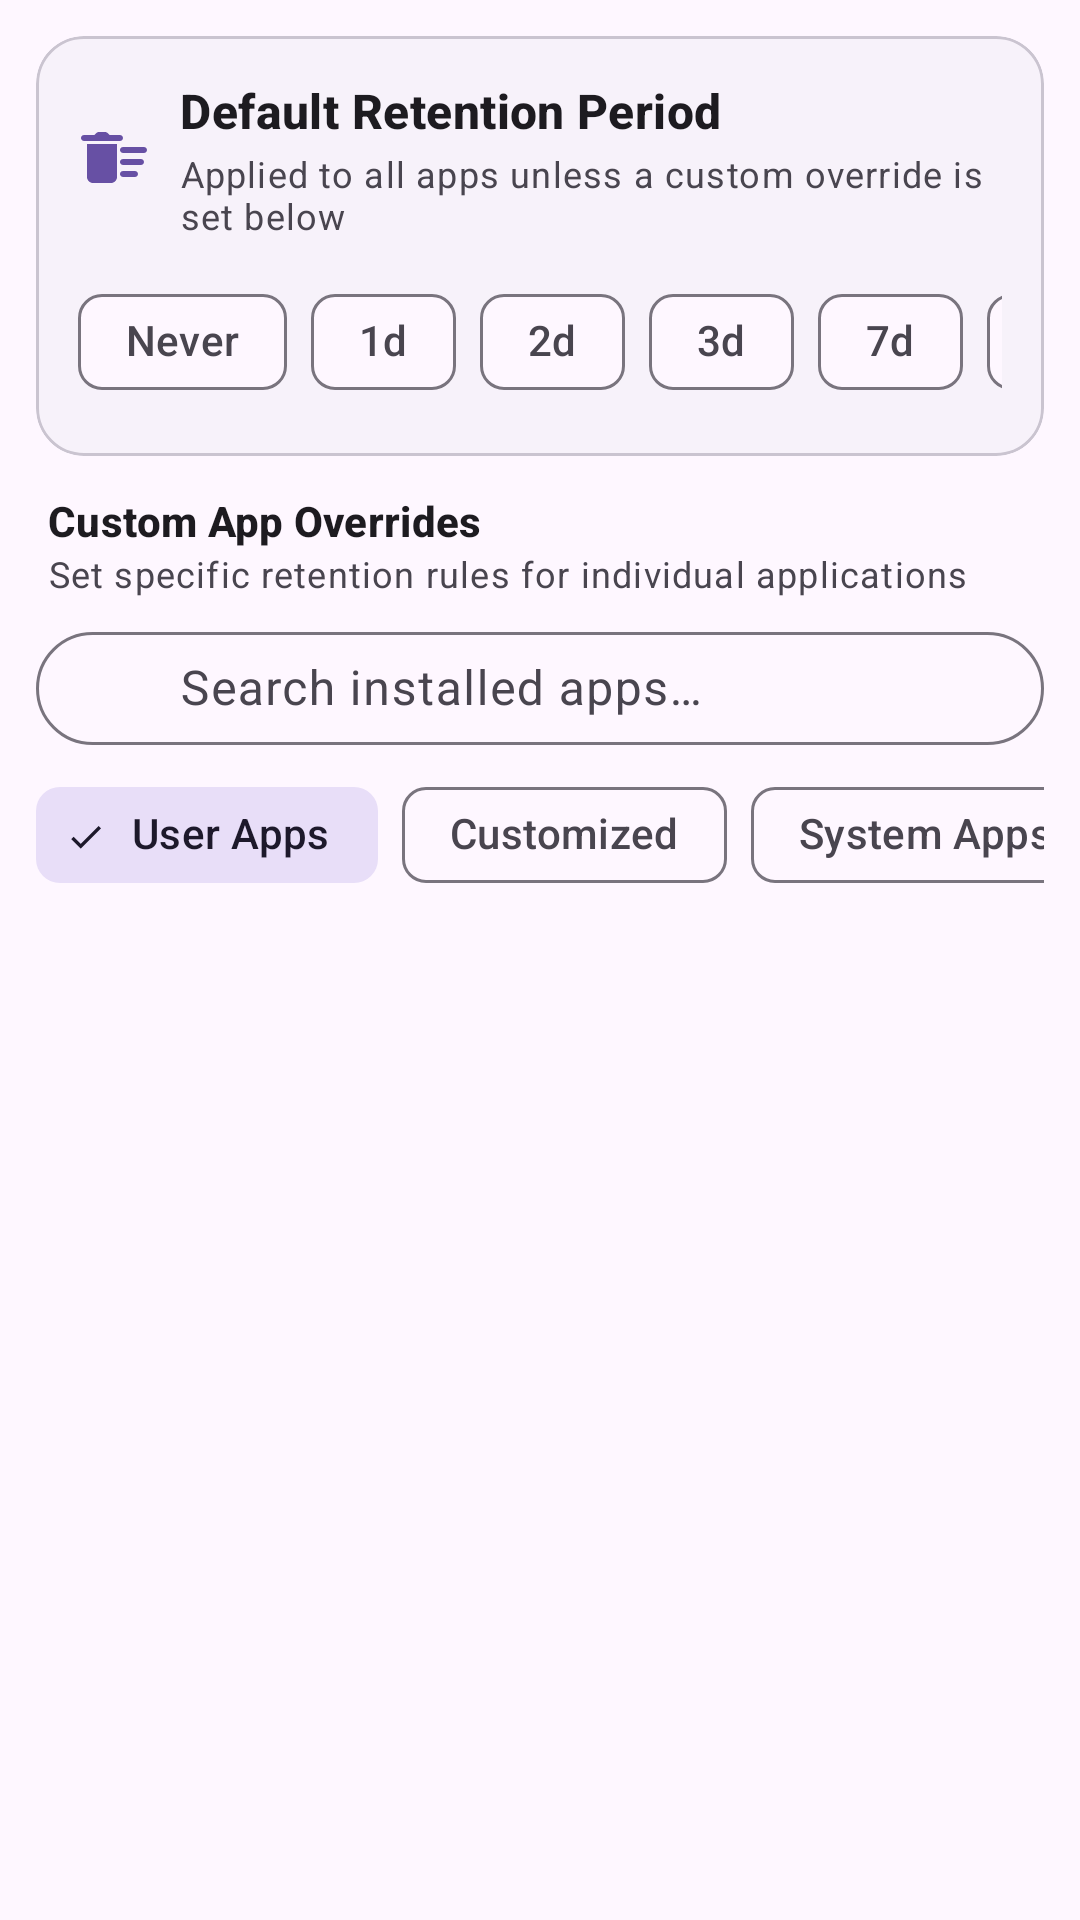

Locate icon controls on the screen. Image size 1080 × 1920, boxes as (x1, y1, x2, y2).
delete sweep: (81, 132, 147, 183)
